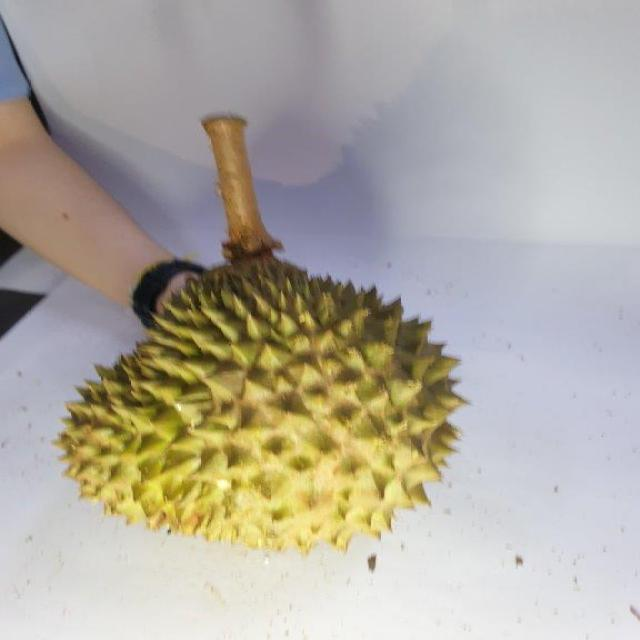immature: (52, 254, 479, 552)
